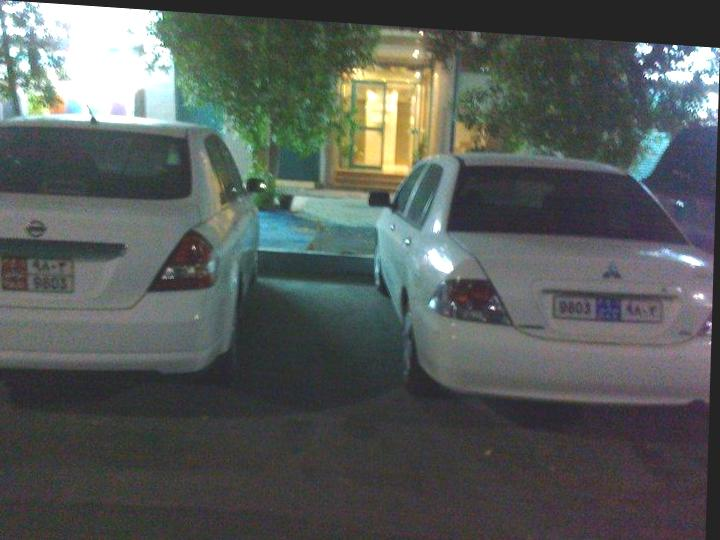License_Plate: (547, 284, 669, 331), (0, 249, 85, 301)
